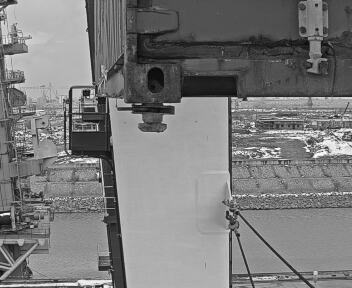twist_lock_1: (126, 97, 180, 140)
